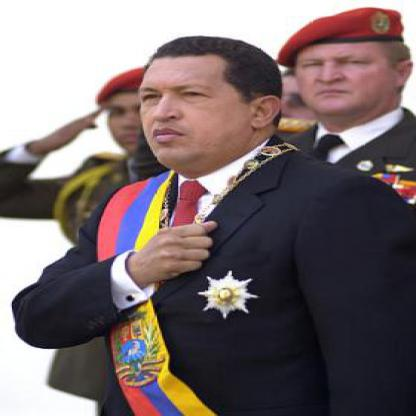face: (129, 44, 257, 173), (289, 20, 398, 120), (106, 75, 182, 157)
